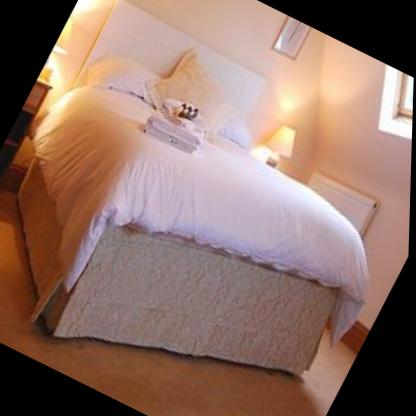Bed: (17, 3, 371, 379)
